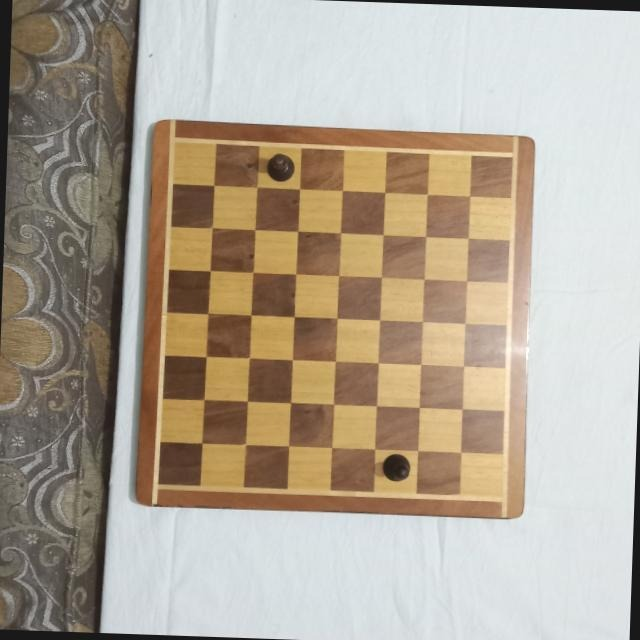black-pawn: (379, 452, 412, 483), (265, 151, 295, 182)
